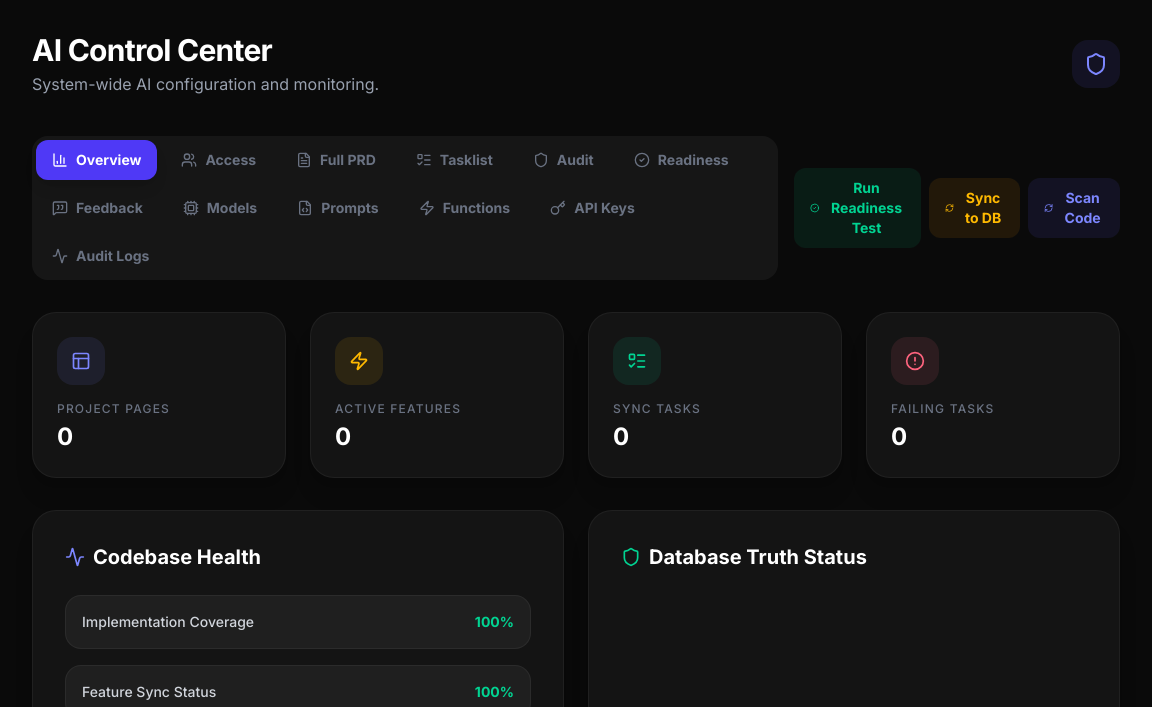
Scenario: Admin › shows the access rollout tab with auth data
Step 1. Click the button "Access" → [219, 160], box [165,140,272,180]
(page scrolled)
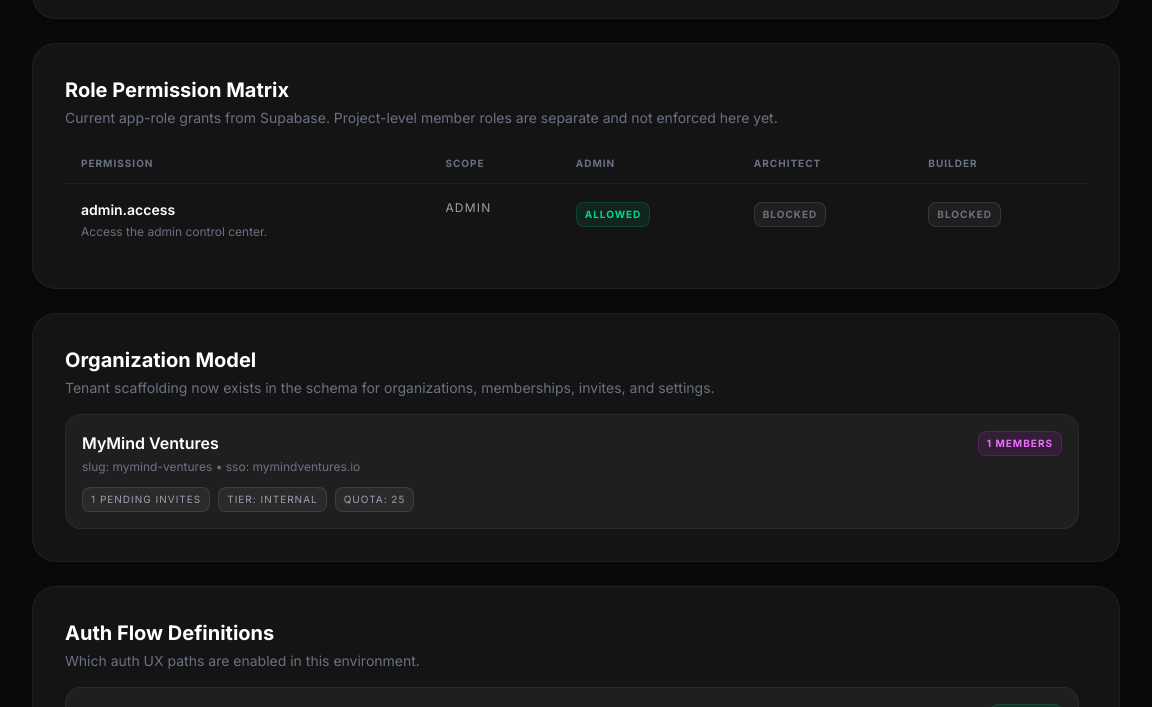
Check: the heading "Role Permission Matrix" is shown, box [65,78,289,102]
Check: the heading "Organization Model" is shown, box [65,348,256,372]
